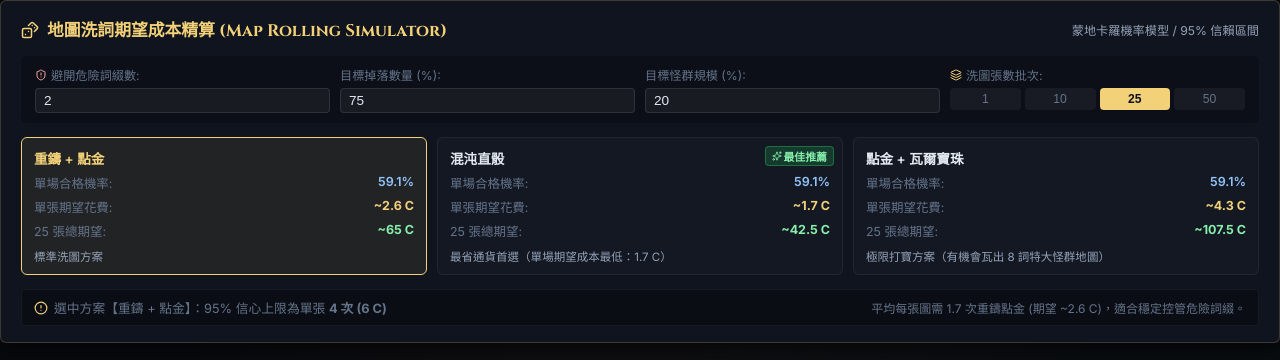
Test: MapRollingSimulatorCard › updates batch size and recalulates total cost
The width and height of the screenshot is (1280, 360).
What coordinates should you click on to do the following:
click the button "50"
I would click on:
 (1210, 99)
Its box is top-left (1174, 88), bottom-right (1245, 110).
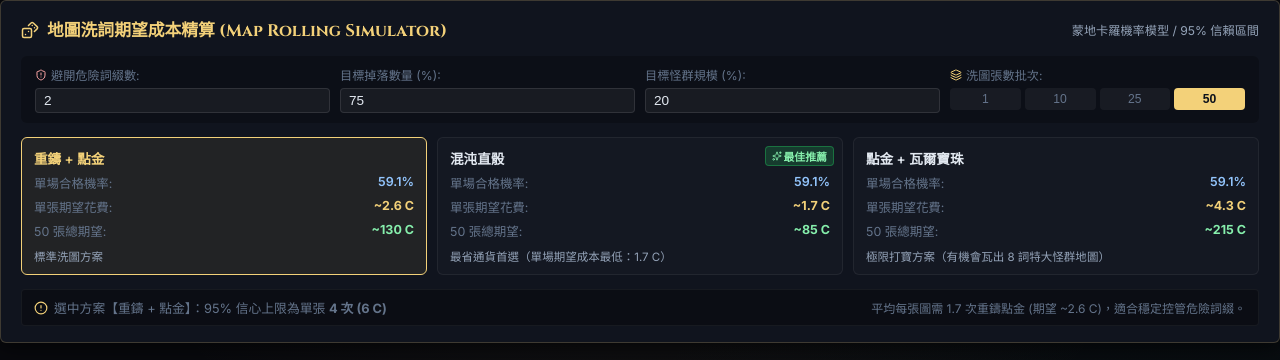
Result: the text "50 張總期望:" in the row of "130" is shown at top-left (34, 222), bottom-right (106, 240)
